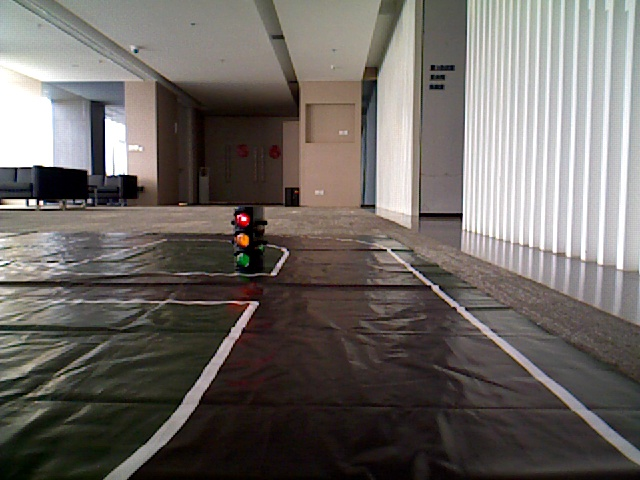red: (234, 212, 254, 269)
